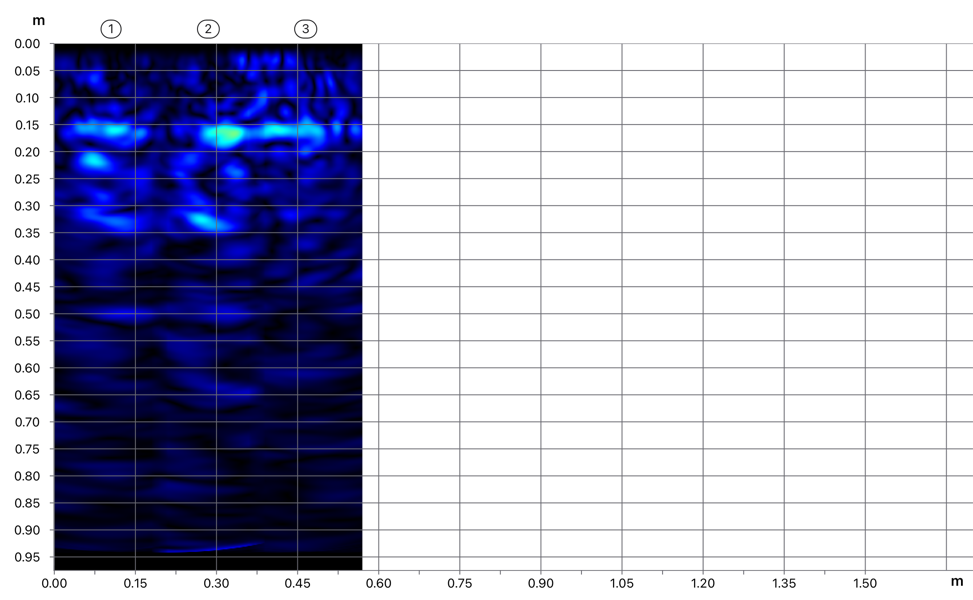crop: (0, 2, 362, 330)
